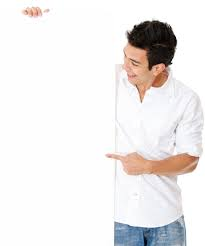hand: (102, 143, 153, 182)
